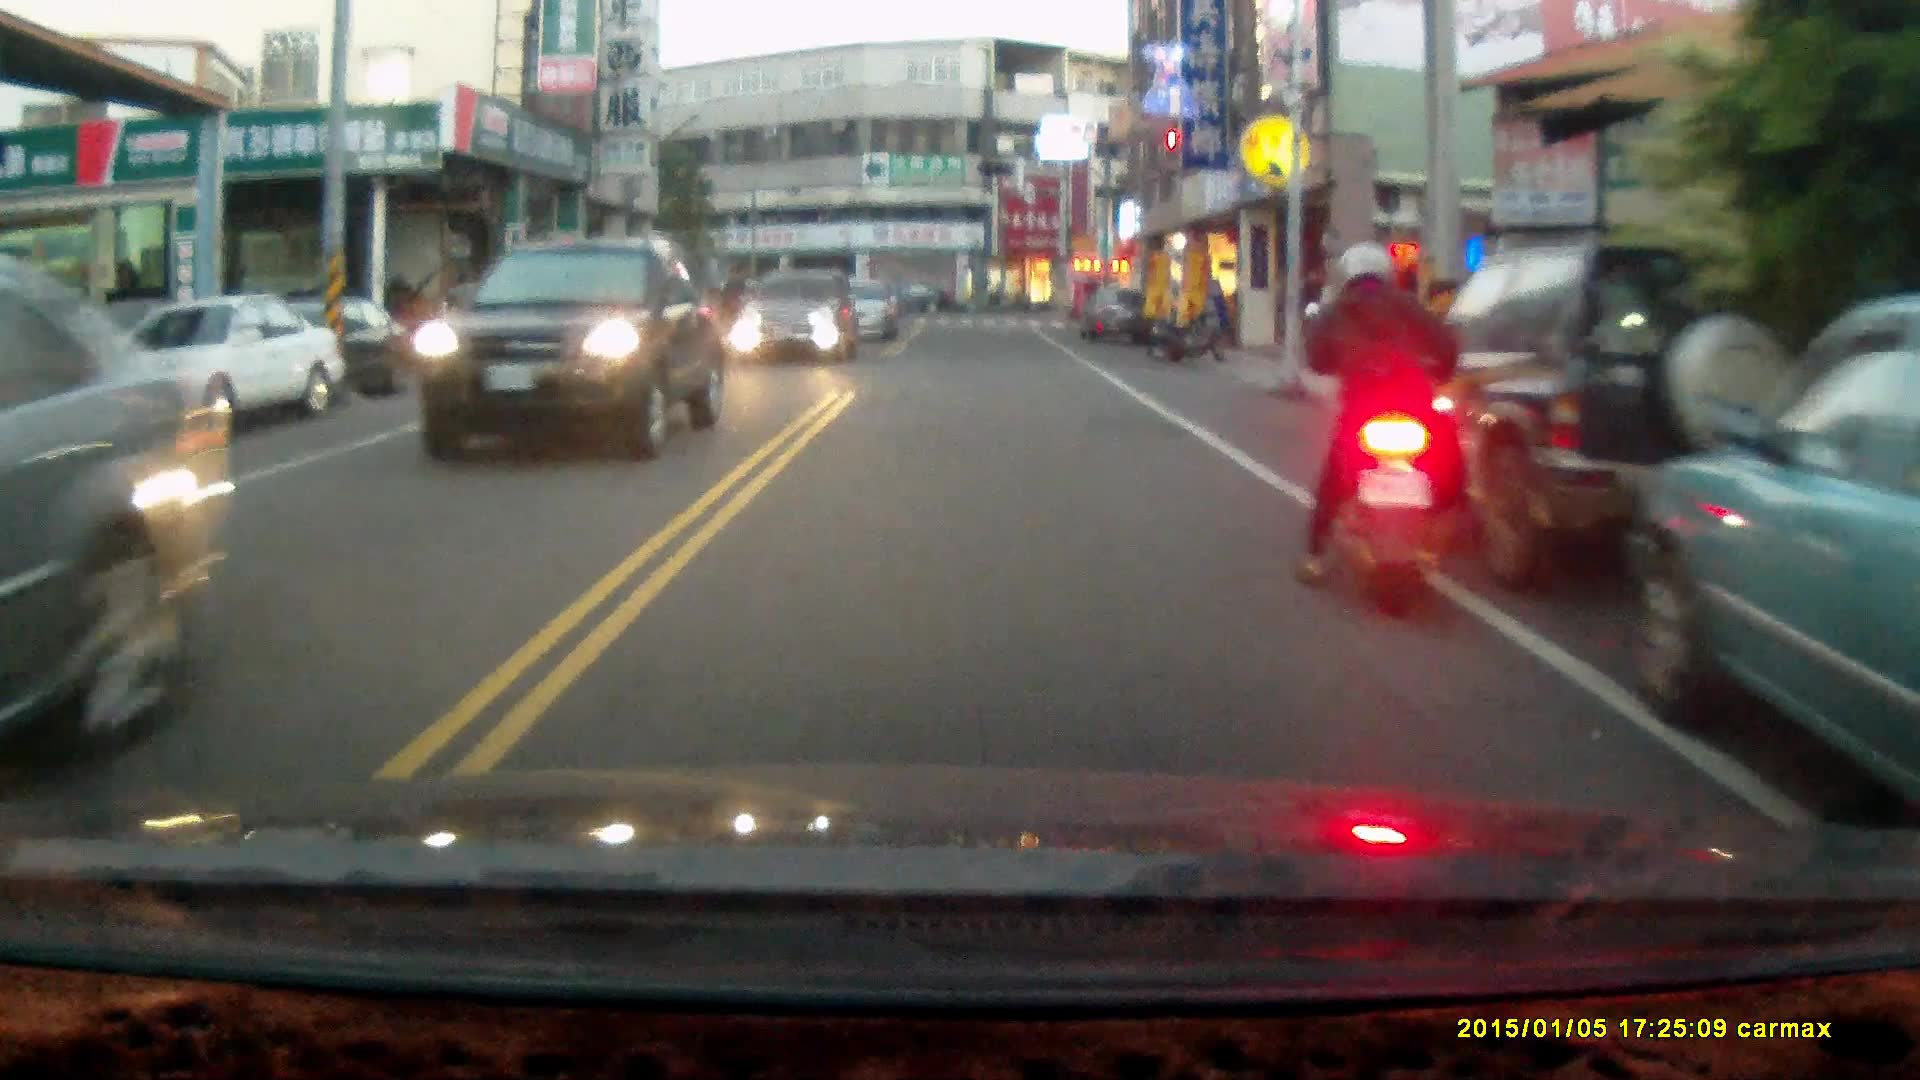rider: (1290, 241, 1498, 618)
vehicle: (1361, 245, 1865, 604), (1606, 290, 1920, 812), (1, 264, 219, 778), (411, 245, 718, 469), (93, 296, 351, 437), (728, 278, 866, 373), (1079, 287, 1152, 349)
